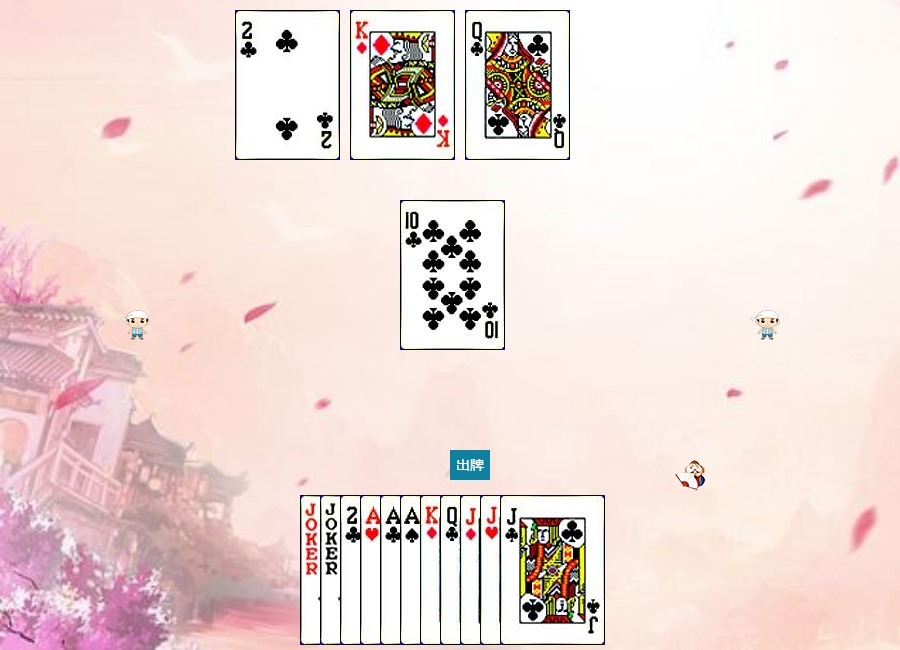10~2: (400, 200, 505, 350)
11~1: (460, 495, 565, 645)
11~2: (500, 495, 605, 645)
11~3: (480, 495, 585, 645)
12~2: (465, 10, 570, 160), (440, 495, 545, 645)
13~1: (350, 10, 455, 160), (420, 495, 525, 645)
14~2: (380, 495, 485, 645)
14~3: (360, 495, 465, 645)
14~4: (400, 495, 505, 645)
15~2: (235, 10, 340, 160), (340, 495, 445, 645)
17~3: (320, 495, 425, 645)
18~4: (300, 495, 405, 645)
